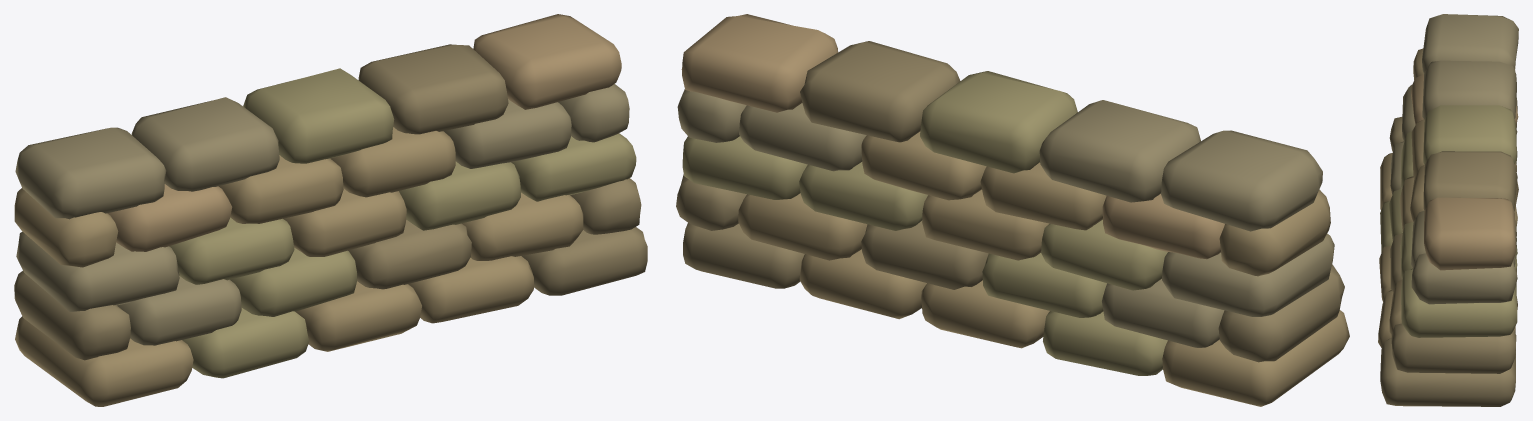
The model's file is sandbag_wall.glb.
3 views of the same model, side by side, from view 1: azimuth 30°, elevation 25°; view 2: azimuth 150°, elevation 25°; view 3: azimuth 270°, elevation 25° (orthographic). The views are drawn at different scales.
Parts seen in each view (by area): view 1: sandbag_wall; view 2: sandbag_wall; view 3: sandbag_wall.
Part boxes in pixels (left/top/right/bottom): sandbag_wall: left=14, top=14, right=647, bottom=406; sandbag_wall: left=676, top=14, right=1349, bottom=406; sandbag_wall: left=1378, top=14, right=1518, bottom=406.
Bounding box in the file's own units: 2.01 × 0.734 × 0.5206.
